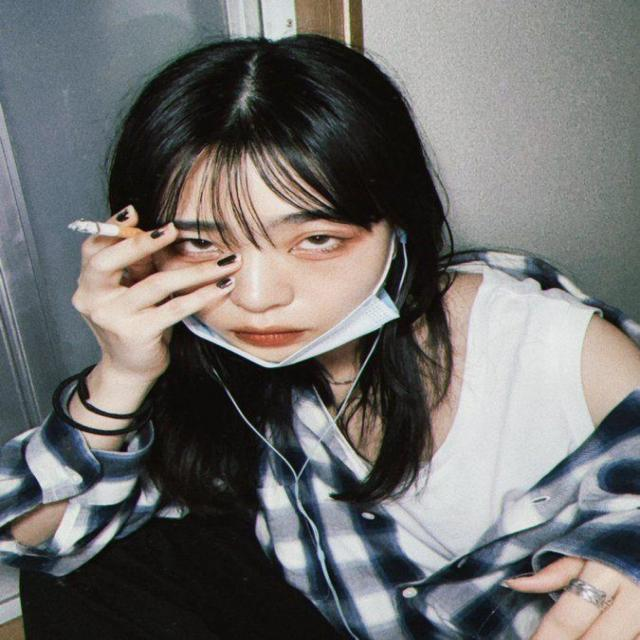cigarette: (46, 207, 183, 256)
